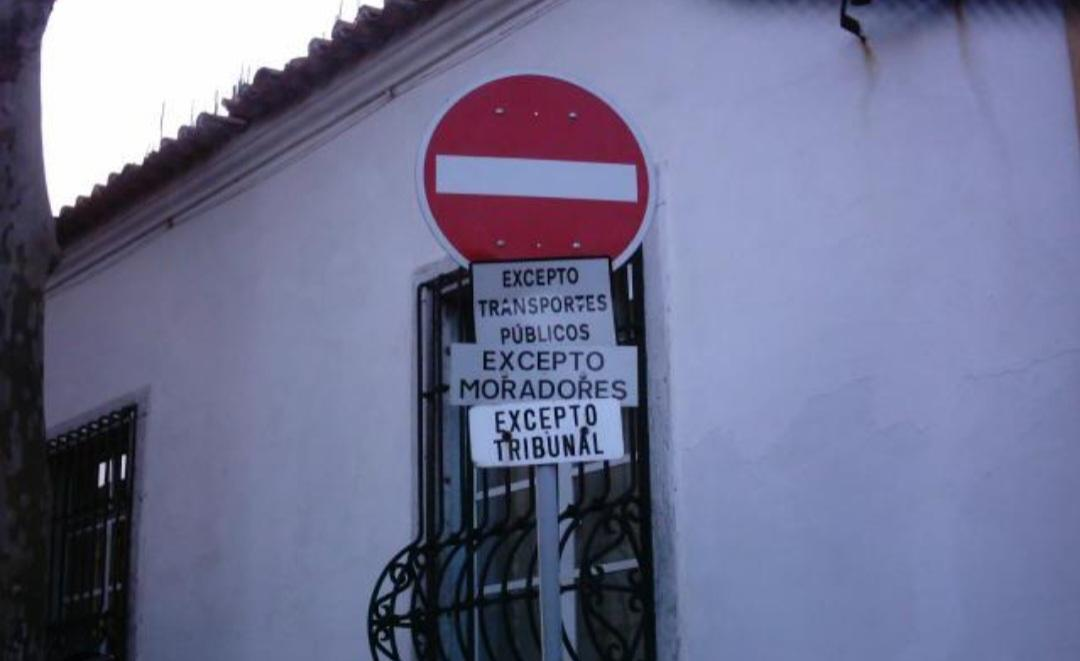Sentido proibido: (443, 80, 643, 260)
